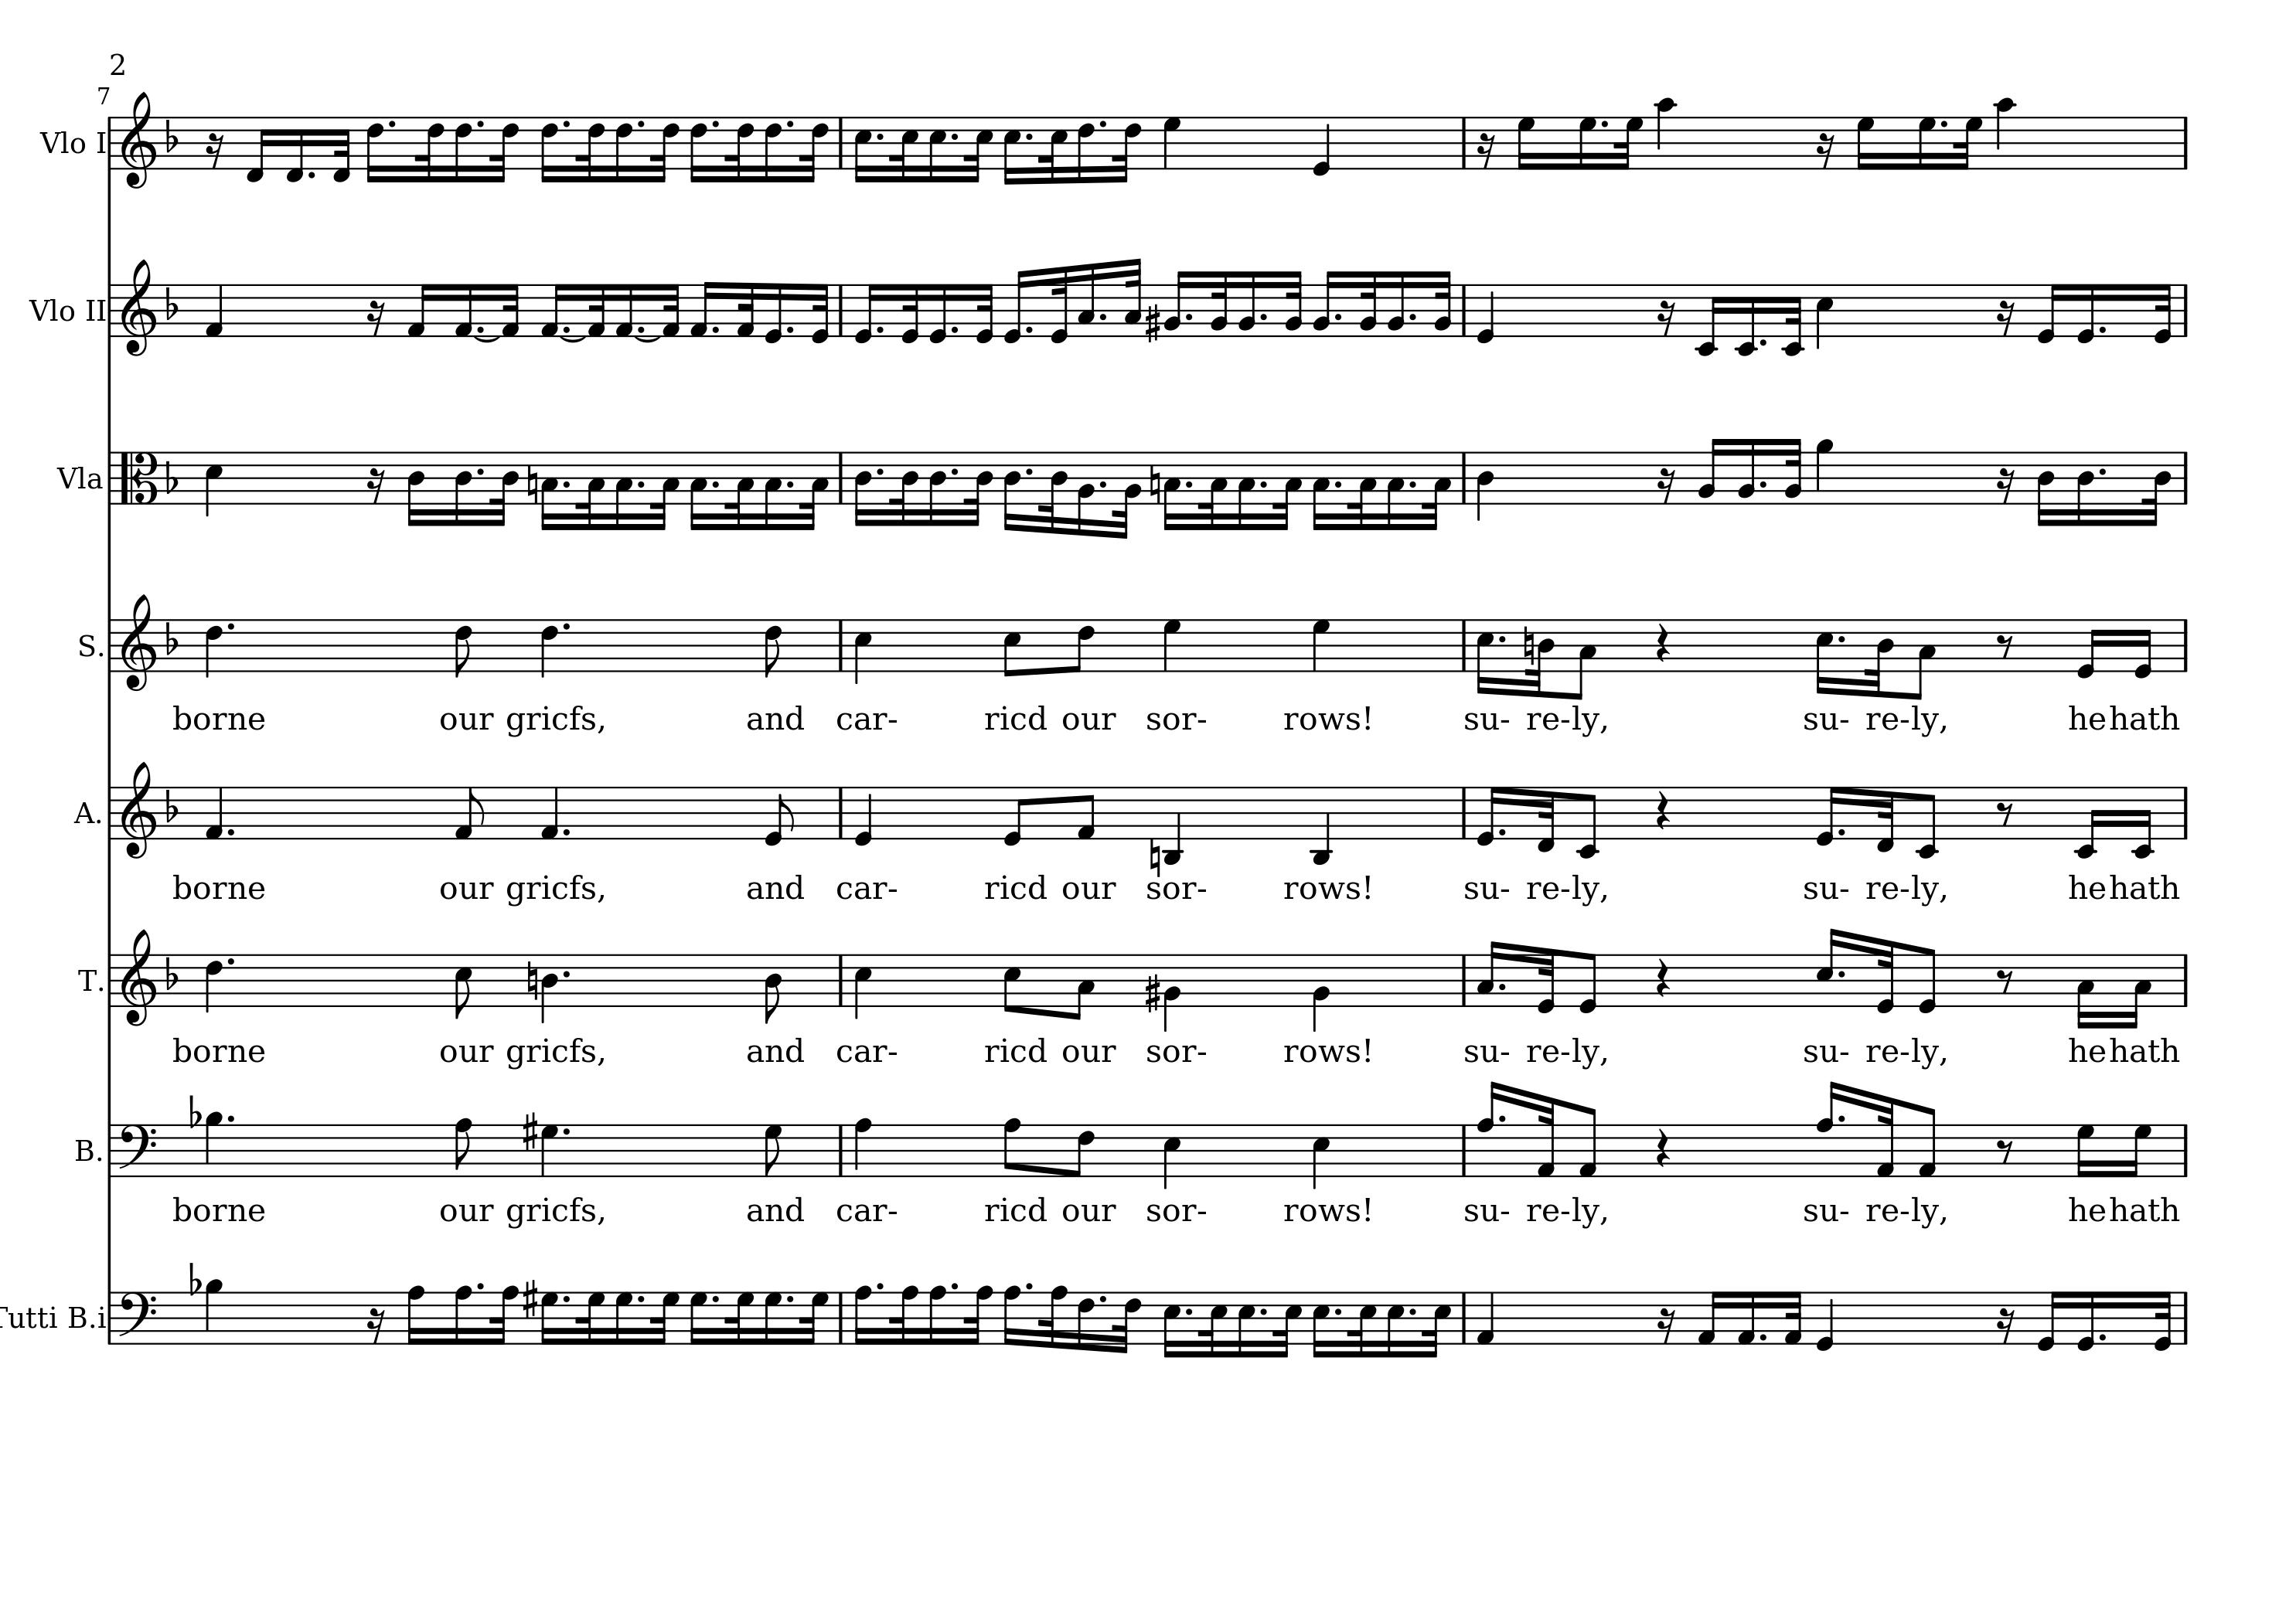16_-1: (246, 114, 271, 183), (285, 114, 304, 183)
16_-2: (1695, 281, 1723, 357), (2075, 785, 2103, 861), (1734, 281, 1757, 357), (2131, 785, 2154, 861)
16_0: (1003, 267, 1031, 344), (2075, 617, 2103, 680), (2036, 1289, 2064, 1353), (2036, 283, 2064, 344), (1813, 785, 1841, 847), (854, 283, 880, 344), (1476, 785, 1502, 847), (2133, 617, 2154, 680), (2075, 281, 2096, 343), (764, 281, 783, 344), (2076, 1288, 2096, 1351), (929, 281, 949, 343)
16_1: (689, 279, 717, 339), (1697, 1289, 1723, 1345), (406, 283, 432, 337), (539, 283, 566, 337), (1736, 1288, 1757, 1345), (453, 281, 473, 337), (615, 281, 634, 337)
16_2: (1163, 269, 1189, 339), (1077, 450, 1098, 537), (1312, 269, 1339, 337), (1697, 436, 1723, 504), (1736, 436, 1757, 506), (1238, 269, 1258, 337), (1388, 269, 1405, 337)
16_3: (2126, 950, 2152, 1029), (1476, 938, 1502, 1008), (689, 450, 710, 532), (1161, 450, 1182, 532), (1237, 450, 1258, 532), (1310, 450, 1332, 532), (613, 450, 634, 530), (762, 450, 783, 530), (1386, 450, 1405, 532), (539, 450, 559, 530), (1077, 262, 1096, 339), (2076, 952, 2096, 1029)
16_4: (453, 450, 474, 529), (2075, 450, 2096, 529), (2034, 450, 2055, 527), (1003, 450, 1022, 532), (406, 450, 425, 527), (854, 450, 873, 527), (929, 450, 949, 527)
16_5: (1815, 926, 1841, 1008), (1815, 617, 1834, 696), (1476, 618, 1495, 696), (1161, 1291, 1182, 1360), (854, 116, 873, 184), (929, 116, 949, 184), (1237, 1291, 1256, 1360), (1310, 1291, 1330, 1360), (1386, 1291, 1405, 1360), (1003, 116, 1021, 186)
16_6: (539, 114, 560, 184), (613, 114, 634, 184), (689, 114, 710, 184), (365, 112, 385, 183), (453, 114, 473, 184), (764, 114, 783, 184), (1077, 114, 1096, 184), (1077, 1289, 1096, 1353)
16_7: (2126, 1122, 2152, 1179), (1576, 114, 1597, 172), (1915, 114, 1936, 172), (2075, 1121, 2096, 1179), (613, 1289, 634, 1345), (762, 1289, 783, 1345), (1516, 114, 1535, 172), (1855, 114, 1874, 172), (539, 1289, 559, 1345), (689, 1289, 708, 1345)
16_8: (1476, 1078, 1502, 1180), (1815, 1078, 1839, 1180), (852, 1284, 873, 1345), (928, 1284, 949, 1345), (406, 1284, 425, 1347), (453, 1284, 473, 1345), (1003, 1284, 1022, 1345)
2: (107, 51, 125, 76)
32_-1: (1535, 785, 1555, 852), (332, 116, 351, 183)
32_-2: (1781, 283, 1806, 355)
32_0: (1049, 263, 1070, 344), (1874, 936, 1895, 1013), (1535, 947, 1556, 1012), (899, 283, 922, 343), (810, 283, 831, 344), (975, 281, 994, 344), (2154, 1288, 2173, 1351), (2154, 283, 2173, 343)
32_1: (1535, 1093, 1556, 1179), (1874, 1093, 1895, 1179), (499, 283, 522, 339), (585, 281, 606, 337), (1783, 1289, 1804, 1345), (736, 281, 755, 339), (661, 283, 680, 339)
32_2: (1110, 450, 1144, 539), (1284, 269, 1303, 339), (1783, 436, 1802, 506), (1433, 269, 1453, 337), (1210, 269, 1228, 337), (1360, 269, 1377, 337)
32_3: (799, 450, 831, 530), (576, 450, 606, 530), (650, 450, 680, 530), (726, 450, 755, 530), (1274, 450, 1303, 530), (1347, 450, 1377, 530), (1200, 450, 1228, 530), (1423, 450, 1451, 530), (1124, 256, 1142, 339), (1874, 785, 1895, 854)
32_4: (1038, 450, 1070, 534), (2141, 450, 2173, 527), (1866, 617, 1895, 697), (889, 448, 919, 527), (490, 450, 520, 527), (964, 450, 994, 527), (1528, 618, 1555, 696)
32_5: (1038, 116, 1070, 184), (1274, 1291, 1303, 1360), (1423, 1291, 1453, 1360), (891, 116, 921, 183), (964, 116, 994, 183), (1198, 1291, 1228, 1358), (1347, 1291, 1377, 1358)
32_6: (413, 112, 444, 184), (799, 114, 831, 183), (490, 114, 520, 184), (1114, 114, 1144, 184), (576, 114, 606, 183), (726, 114, 755, 183), (1112, 1289, 1142, 1354), (652, 114, 680, 183)
32_7: (1953, 114, 1985, 170), (1614, 114, 1644, 172), (576, 1289, 606, 1345), (726, 1291, 755, 1345), (799, 1291, 829, 1345), (652, 1291, 680, 1345)
32_8: (1040, 1284, 1068, 1347), (891, 1284, 919, 1345), (964, 1284, 993, 1345)
4_-3: (1161, 783, 1184, 866), (1309, 785, 1332, 866)
4_0: (1476, 281, 1497, 344), (1815, 1289, 1836, 1353), (1312, 114, 1332, 176), (854, 785, 873, 847)
4_1: (1476, 1289, 1497, 1345), (204, 283, 225, 337), (204, 785, 225, 840), (539, 785, 560, 840)
4_10: (1655, 97, 1678, 170), (1994, 97, 2017, 170)
4_2: (1161, 950, 1182, 1031), (1310, 952, 1330, 1033)
4_4: (539, 952, 560, 1024), (1476, 450, 1495, 522)
4_5: (1310, 1122, 1332, 1191), (1161, 1122, 1182, 1189), (1815, 283, 1834, 351), (204, 450, 223, 518), (854, 617, 873, 683), (854, 952, 873, 1019)
4_6: (204, 617, 225, 680), (539, 617, 559, 680), (206, 952, 225, 1013)
4_7: (1161, 617, 1182, 673), (1310, 617, 1332, 671), (539, 1122, 560, 1177), (1163, 116, 1182, 170)
4_8: (852, 1115, 873, 1179)
4_9: (204, 1110, 225, 1179), (1815, 436, 1834, 504), (204, 1277, 223, 1345)
7: (97, 84, 111, 104)
8_-2: (1917, 785, 1939, 859), (1578, 785, 1599, 859)
8_0: (764, 785, 794, 845), (1003, 785, 1028, 847), (1917, 945, 1938, 1013), (1578, 950, 1599, 1015)
8_1: (453, 785, 487, 840), (1917, 1103, 1938, 1179), (1578, 1103, 1597, 1179), (1077, 785, 1096, 840)
8_3: (1572, 617, 1597, 699), (1911, 617, 1936, 699), (1070, 952, 1096, 1021)
8_4: (762, 952, 783, 1026)
8_5: (453, 952, 474, 1021), (1001, 617, 1022, 678), (1001, 952, 1022, 1013)
8_6: (1066, 617, 1096, 674), (1068, 1122, 1094, 1179), (453, 617, 473, 680), (762, 617, 782, 680)
8_7: (762, 1122, 785, 1179)
8_8: (1001, 1115, 1022, 1179), (453, 1117, 474, 1179)
Cclef: (118, 450, 156, 506)
Fclef: (118, 1289, 160, 1347), (118, 1122, 160, 1179)
Flat: (163, 954, 179, 992), (163, 116, 179, 153), (165, 283, 179, 321), (165, 457, 179, 494), (165, 787, 179, 824), (165, 620, 179, 655), (188, 1093, 202, 1128), (186, 1261, 200, 1296)
Gclef: (119, 90, 158, 191), (119, 258, 158, 358), (121, 761, 156, 861), (121, 927, 156, 1028), (121, 594, 156, 692)
Natural: (1521, 622, 1535, 666), (525, 959, 539, 1001), (525, 460, 538, 506), (1149, 464, 1161, 504), (1149, 838, 1161, 876)
Rests16: (1815, 130, 1836, 170), (1657, 465, 1678, 504), (365, 1307, 386, 1345), (1996, 1305, 2017, 1344), (365, 299, 386, 335), (1996, 299, 2017, 335), (206, 130, 225, 169), (1476, 130, 1495, 169), (367, 465, 386, 504), (1996, 465, 2015, 504), (1657, 1305, 1676, 1344), (1657, 299, 1676, 335)
Rests4: (1655, 622, 1671, 664), (1655, 789, 1671, 831), (1655, 956, 1671, 998), (1655, 1128, 1671, 1168)
Rests8: (1996, 632, 2013, 659), (1996, 799, 2013, 826), (1996, 968, 2013, 992), (1996, 1138, 2013, 1163)
Sharp: (522, 1277, 539, 1319), (1144, 973, 1161, 1013), (1145, 300, 1161, 343), (522, 1110, 538, 1152)
Single_barline: (2177, 954, 2194, 1006), (2177, 283, 2192, 337), (2177, 116, 2192, 169), (833, 116, 848, 169), (1456, 116, 1472, 169), (833, 618, 848, 671), (1456, 1291, 1472, 1344), (833, 285, 848, 335), (1456, 285, 1472, 335), (833, 451, 848, 502), (1456, 451, 1472, 502), (833, 1291, 848, 1342), (104, 283, 118, 337), (104, 116, 118, 169), (104, 451, 118, 504), (2178, 451, 2192, 504), (104, 618, 118, 671), (2178, 618, 2192, 671), (1456, 618, 1470, 671), (834, 785, 848, 838), (1456, 785, 1470, 838), (2178, 1124, 2192, 1177), (2178, 1291, 2192, 1344), (104, 787, 118, 838), (2178, 787, 2192, 838), (104, 954, 118, 1005), (834, 954, 848, 1005), (1456, 954, 1470, 1005), (834, 1124, 848, 1175), (1456, 1124, 1470, 1175), (104, 1124, 116, 1177), (105, 1291, 118, 1342)
Slur: (559, 335, 587, 343), (632, 335, 661, 343), (473, 335, 499, 343)
Vla: (56, 460, 102, 495)
dot: (1096, 1291, 1108, 1305), (2096, 465, 2108, 478), (225, 954, 237, 966), (1022, 1279, 1035, 1291), (947, 1279, 959, 1291), (1258, 1305, 1270, 1317), (1757, 476, 1767, 490), (1405, 1305, 1419, 1316), (474, 118, 487, 128), (306, 169, 316, 181), (2096, 323, 2108, 334), (1757, 335, 1767, 348), (474, 465, 487, 476), (560, 478, 573, 488), (634, 480, 646, 490), (560, 620, 573, 631), (1497, 632, 1507, 645), (1836, 632, 1846, 645), (474, 1279, 485, 1291), (873, 1280, 885, 1291), (634, 1293, 646, 1303), (783, 1293, 796, 1303), (1182, 1305, 1195, 1316), (1332, 1305, 1344, 1316), (386, 118, 397, 128), (474, 323, 485, 334), (560, 323, 571, 334), (634, 323, 645, 334), (225, 620, 235, 631), (225, 826, 235, 836), (560, 826, 571, 836), (560, 968, 571, 978), (1836, 968, 1846, 978), (225, 1112, 235, 1122), (560, 1126, 571, 1136), (710, 1293, 720, 1303), (560, 1293, 571, 1303), (2096, 1331, 2106, 1342), (1497, 1114, 1507, 1122), (1836, 1114, 1846, 1122)
